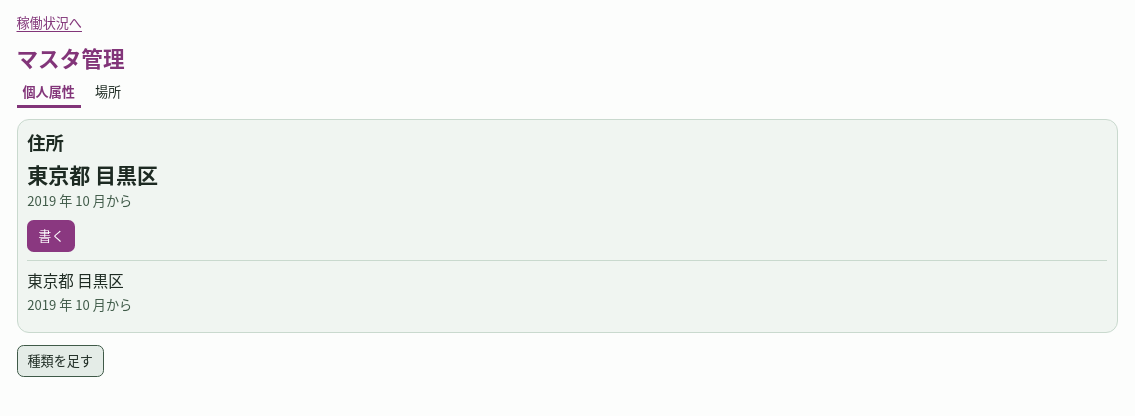
it: 個人属性の画面 › 主張した日時は押す前は見えず、押すと見える
Click the button with test id "claim-row" at [76, 280], box [27,260,1107,322]
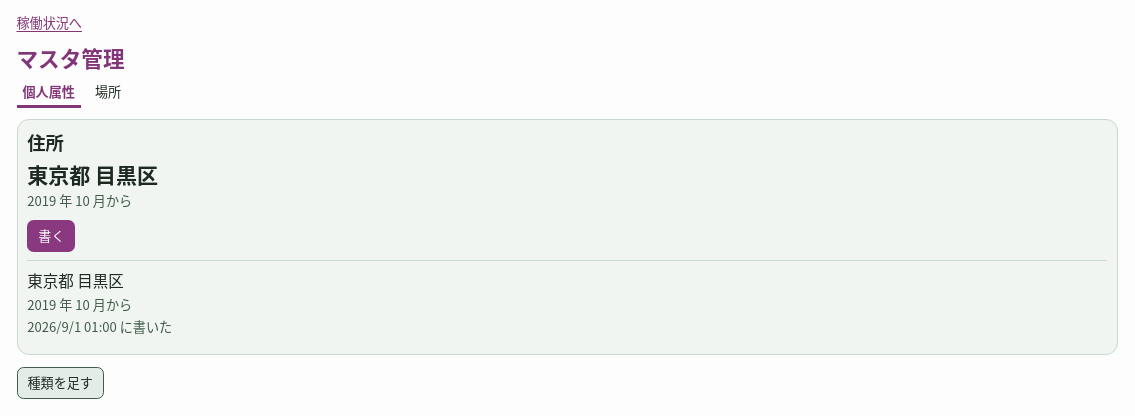
Expected: the text with test id "asserted-at" shows "に書いた", [27,317,172,336]
Expected: the button with test id "claim-row" is expanded, [27,260,1107,344]
